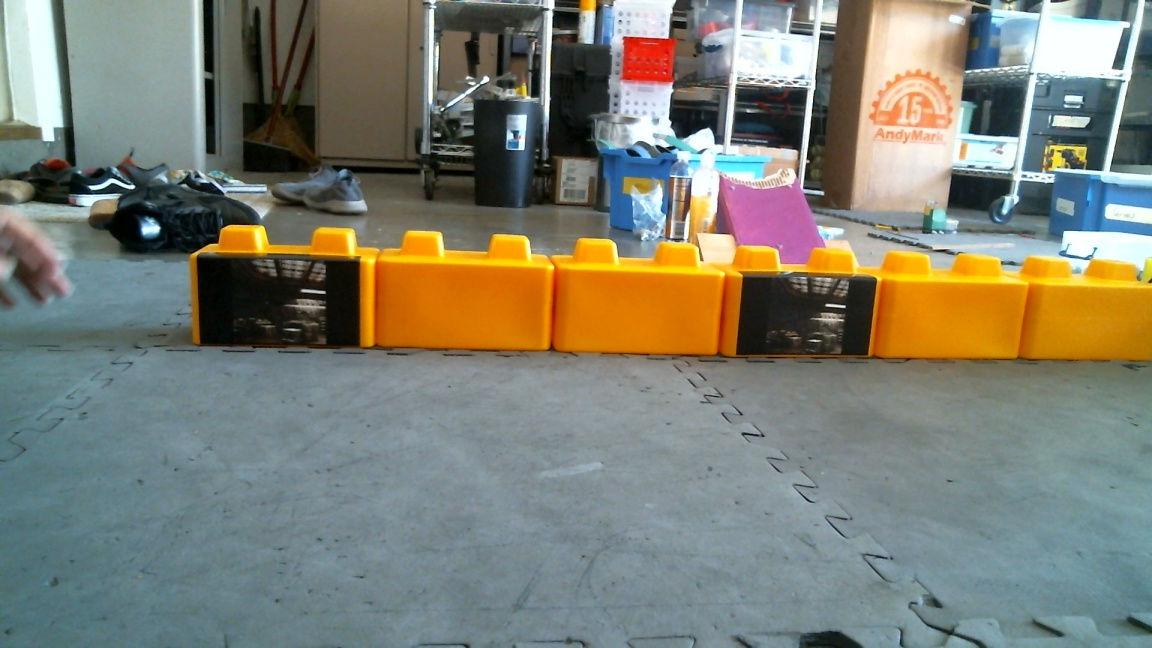center: (551, 239, 1028, 355)
left: (183, 235, 727, 357), (725, 251, 1148, 364)
right: (371, 227, 881, 351)
